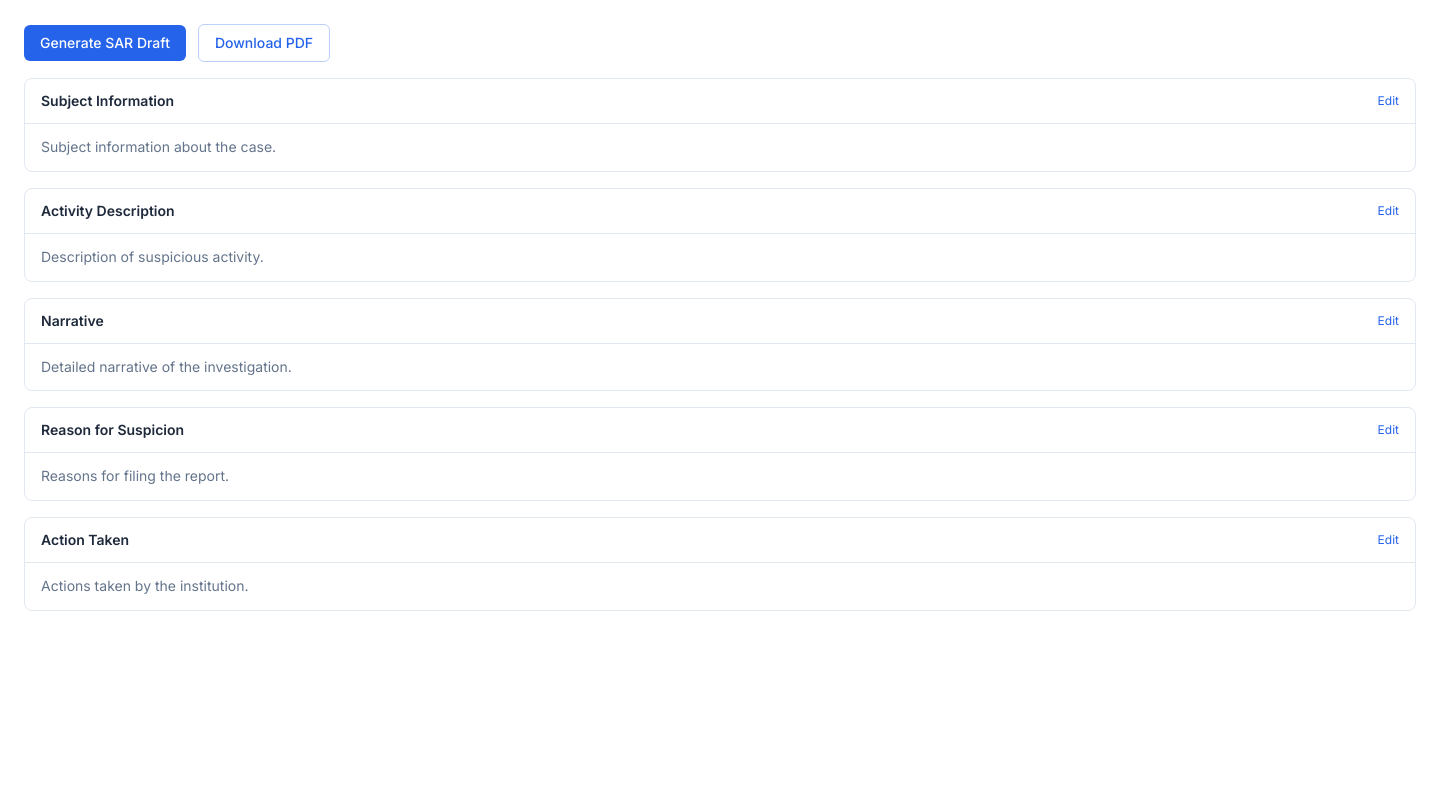
SAREditor › opens edit mode when Edit is clicked
The image size is (1440, 810).
Click the 1st button "Edit" at (1388, 101), box [1378,93,1399,109]
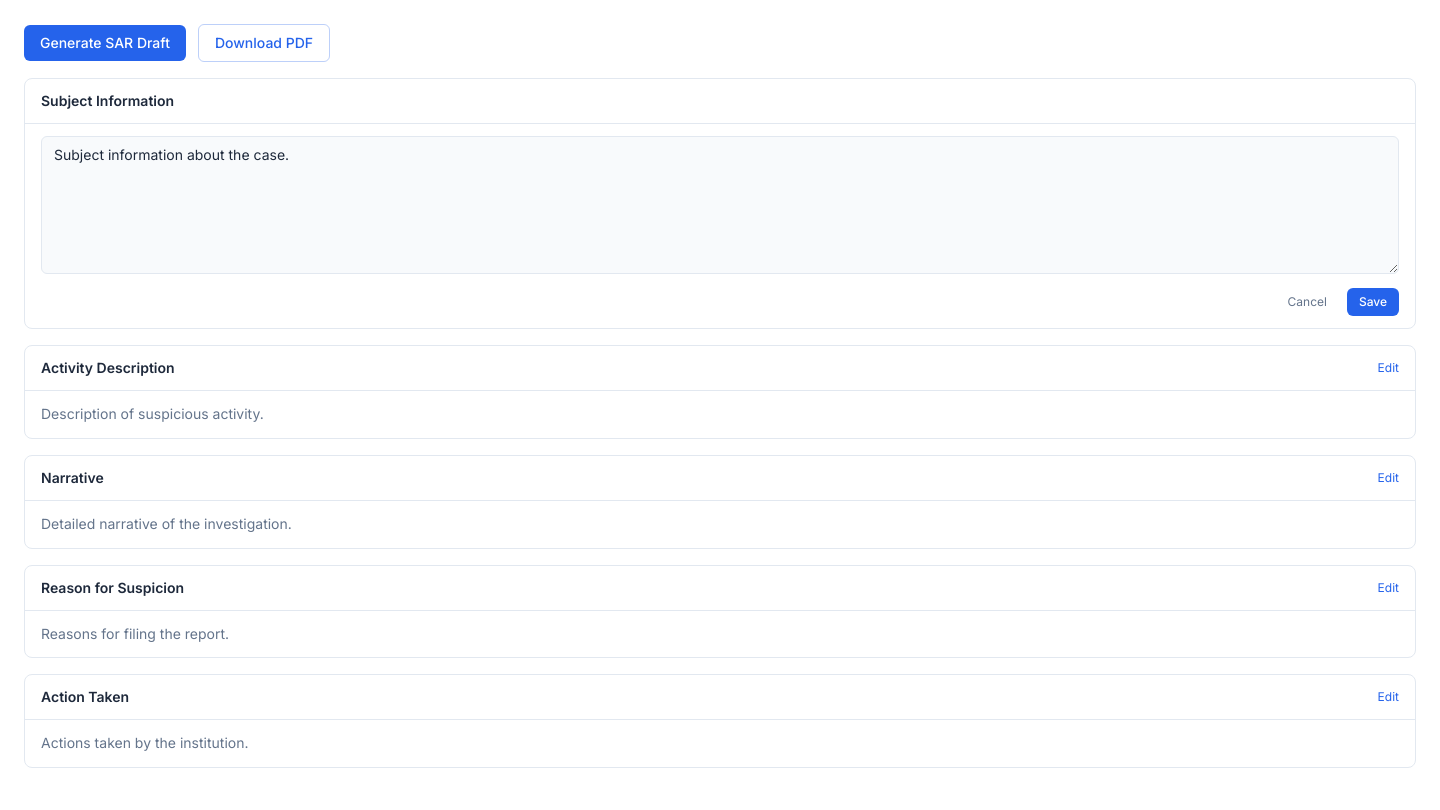
Now the text box named "Edit Subject Information" is shown, box [41,136,1399,274]
Now the button "Save" is shown, box [1347,288,1399,316]
Now the button "Cancel" is shown, box [1276,288,1339,316]
